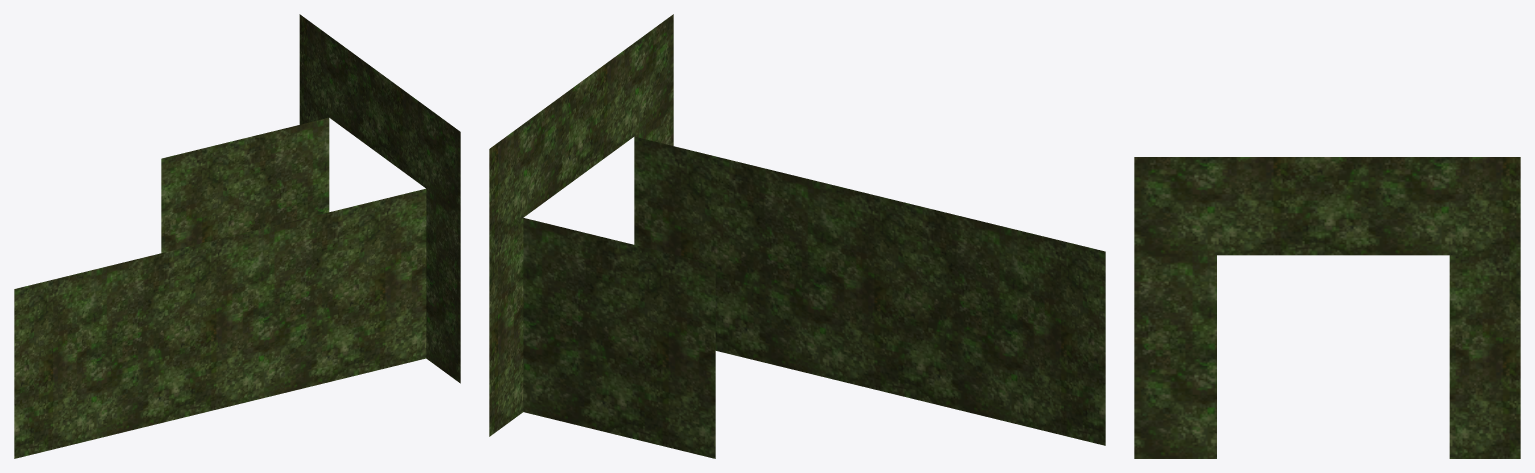
Rendered from OVERHILL_A_01_OBJECT266.fbx.
The picture shows the model from 3 angles, left to right: view 1: azimuth 30°, elevation 25°; view 2: azimuth 150°, elevation 25°; view 3: azimuth 270°, elevation 25°; orthographic projection. The views are drawn at different scales.
Parts seen in each view (by area): view 1: OVERHILL_A_01_OBJECT266; view 2: OVERHILL_A_01_OBJECT266; view 3: OVERHILL_A_01_OBJECT266.
Part boxes in pixels (box(x1,y1,x2,y2)): OVERHILL_A_01_OBJECT266: box(14, 14, 460, 458); OVERHILL_A_01_OBJECT266: box(489, 14, 1105, 458); OVERHILL_A_01_OBJECT266: box(1134, 157, 1520, 458).
Bounding box in the file's own units: 80000 × 46739 × 54178.
Materials: 1 (1 with a texture image).
